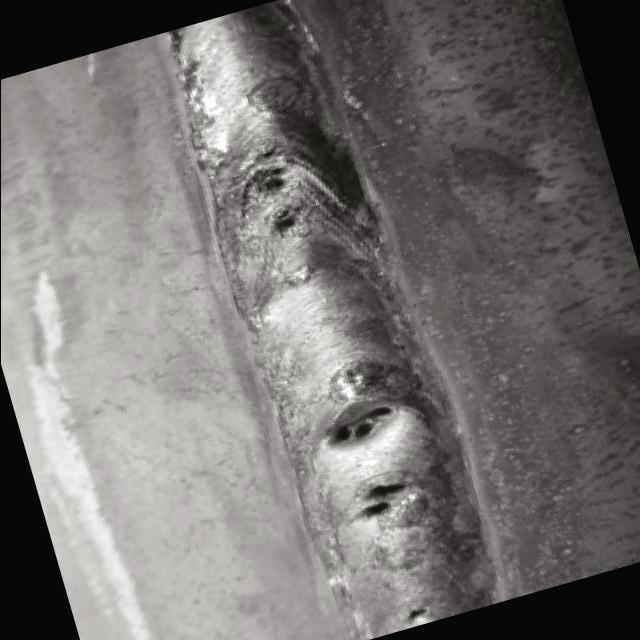defect: (313, 391, 415, 452), (337, 470, 423, 526), (233, 139, 298, 201), (257, 199, 313, 240), (400, 600, 440, 625)
